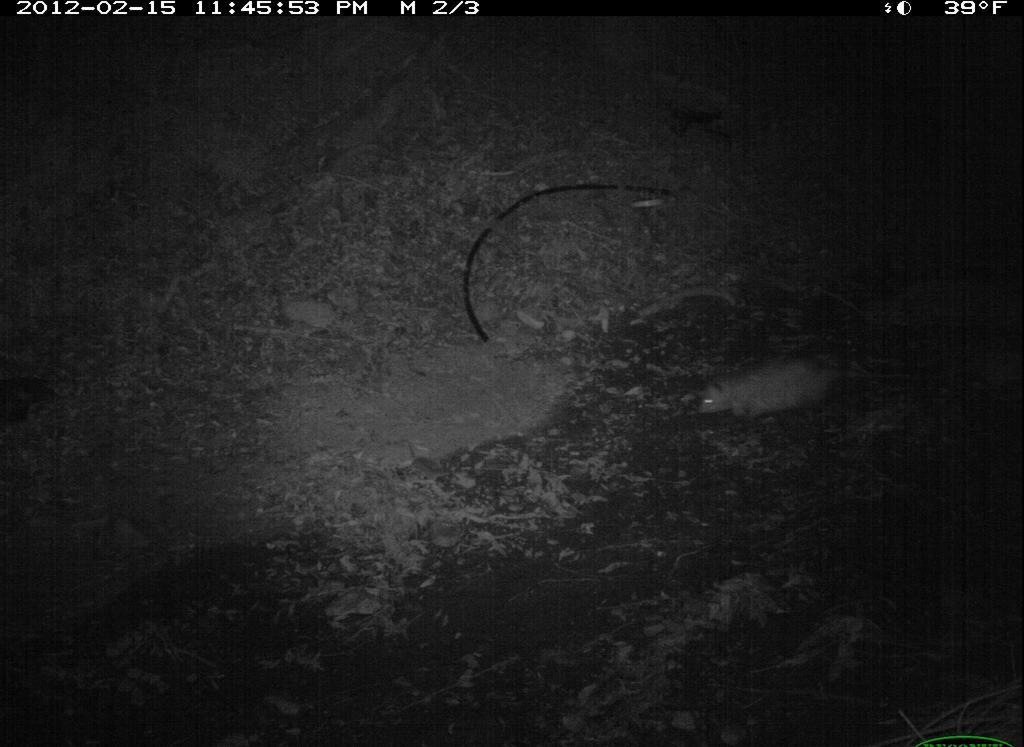opossum: (690, 351, 899, 427)
